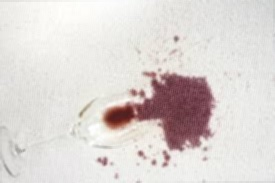wine: (106, 72, 214, 138), (163, 127, 207, 149), (158, 145, 175, 171), (132, 146, 150, 166), (93, 156, 110, 168), (173, 32, 187, 45), (164, 48, 177, 61), (113, 170, 121, 178)
